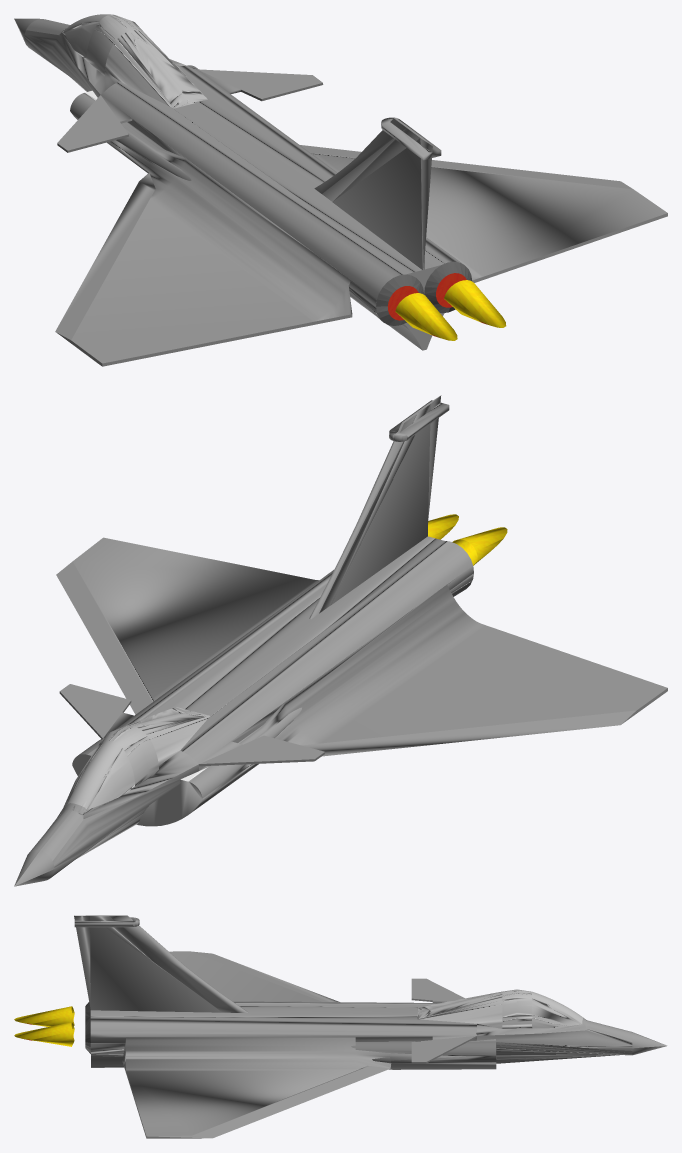
File: fighter.glb
3 renders of one model, top to bottom at view 1: azimuth 30°, elevation 25°; view 2: azimuth 150°, elevation 25°; view 3: azimuth 270°, elevation 25°, orthographic. The views are drawn at different scales.
Parts seen in each view (by area): view 1: 战斗机; view 2: 战斗机; view 3: 战斗机.
Boxes of the visible parts, x1,y1,x2,y2 form: 战斗机: (14, 14, 667, 366); 战斗机: (14, 395, 667, 886); 战斗机: (14, 915, 667, 1138).
Bounding box in the file's own units: 10.8 × 3.91 × 15.41.
Materials: 14 (3 with a texture image).
